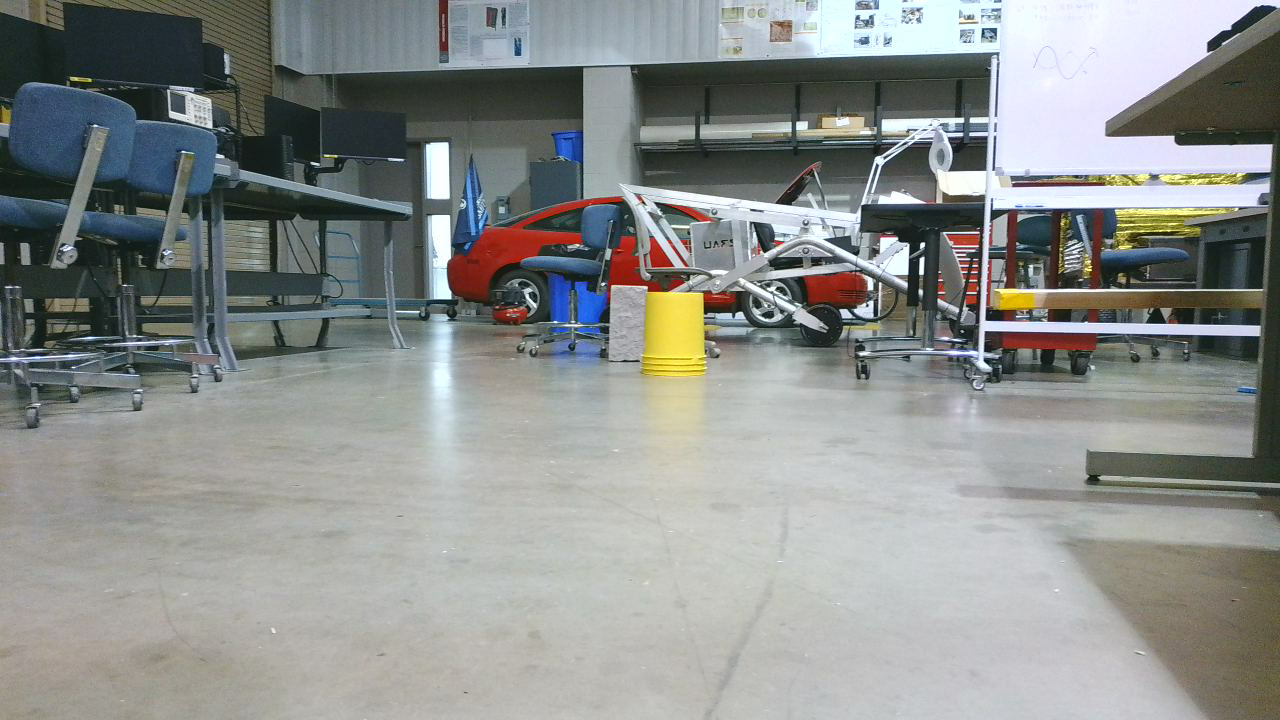yellow_bucket: (647, 297, 713, 381)
